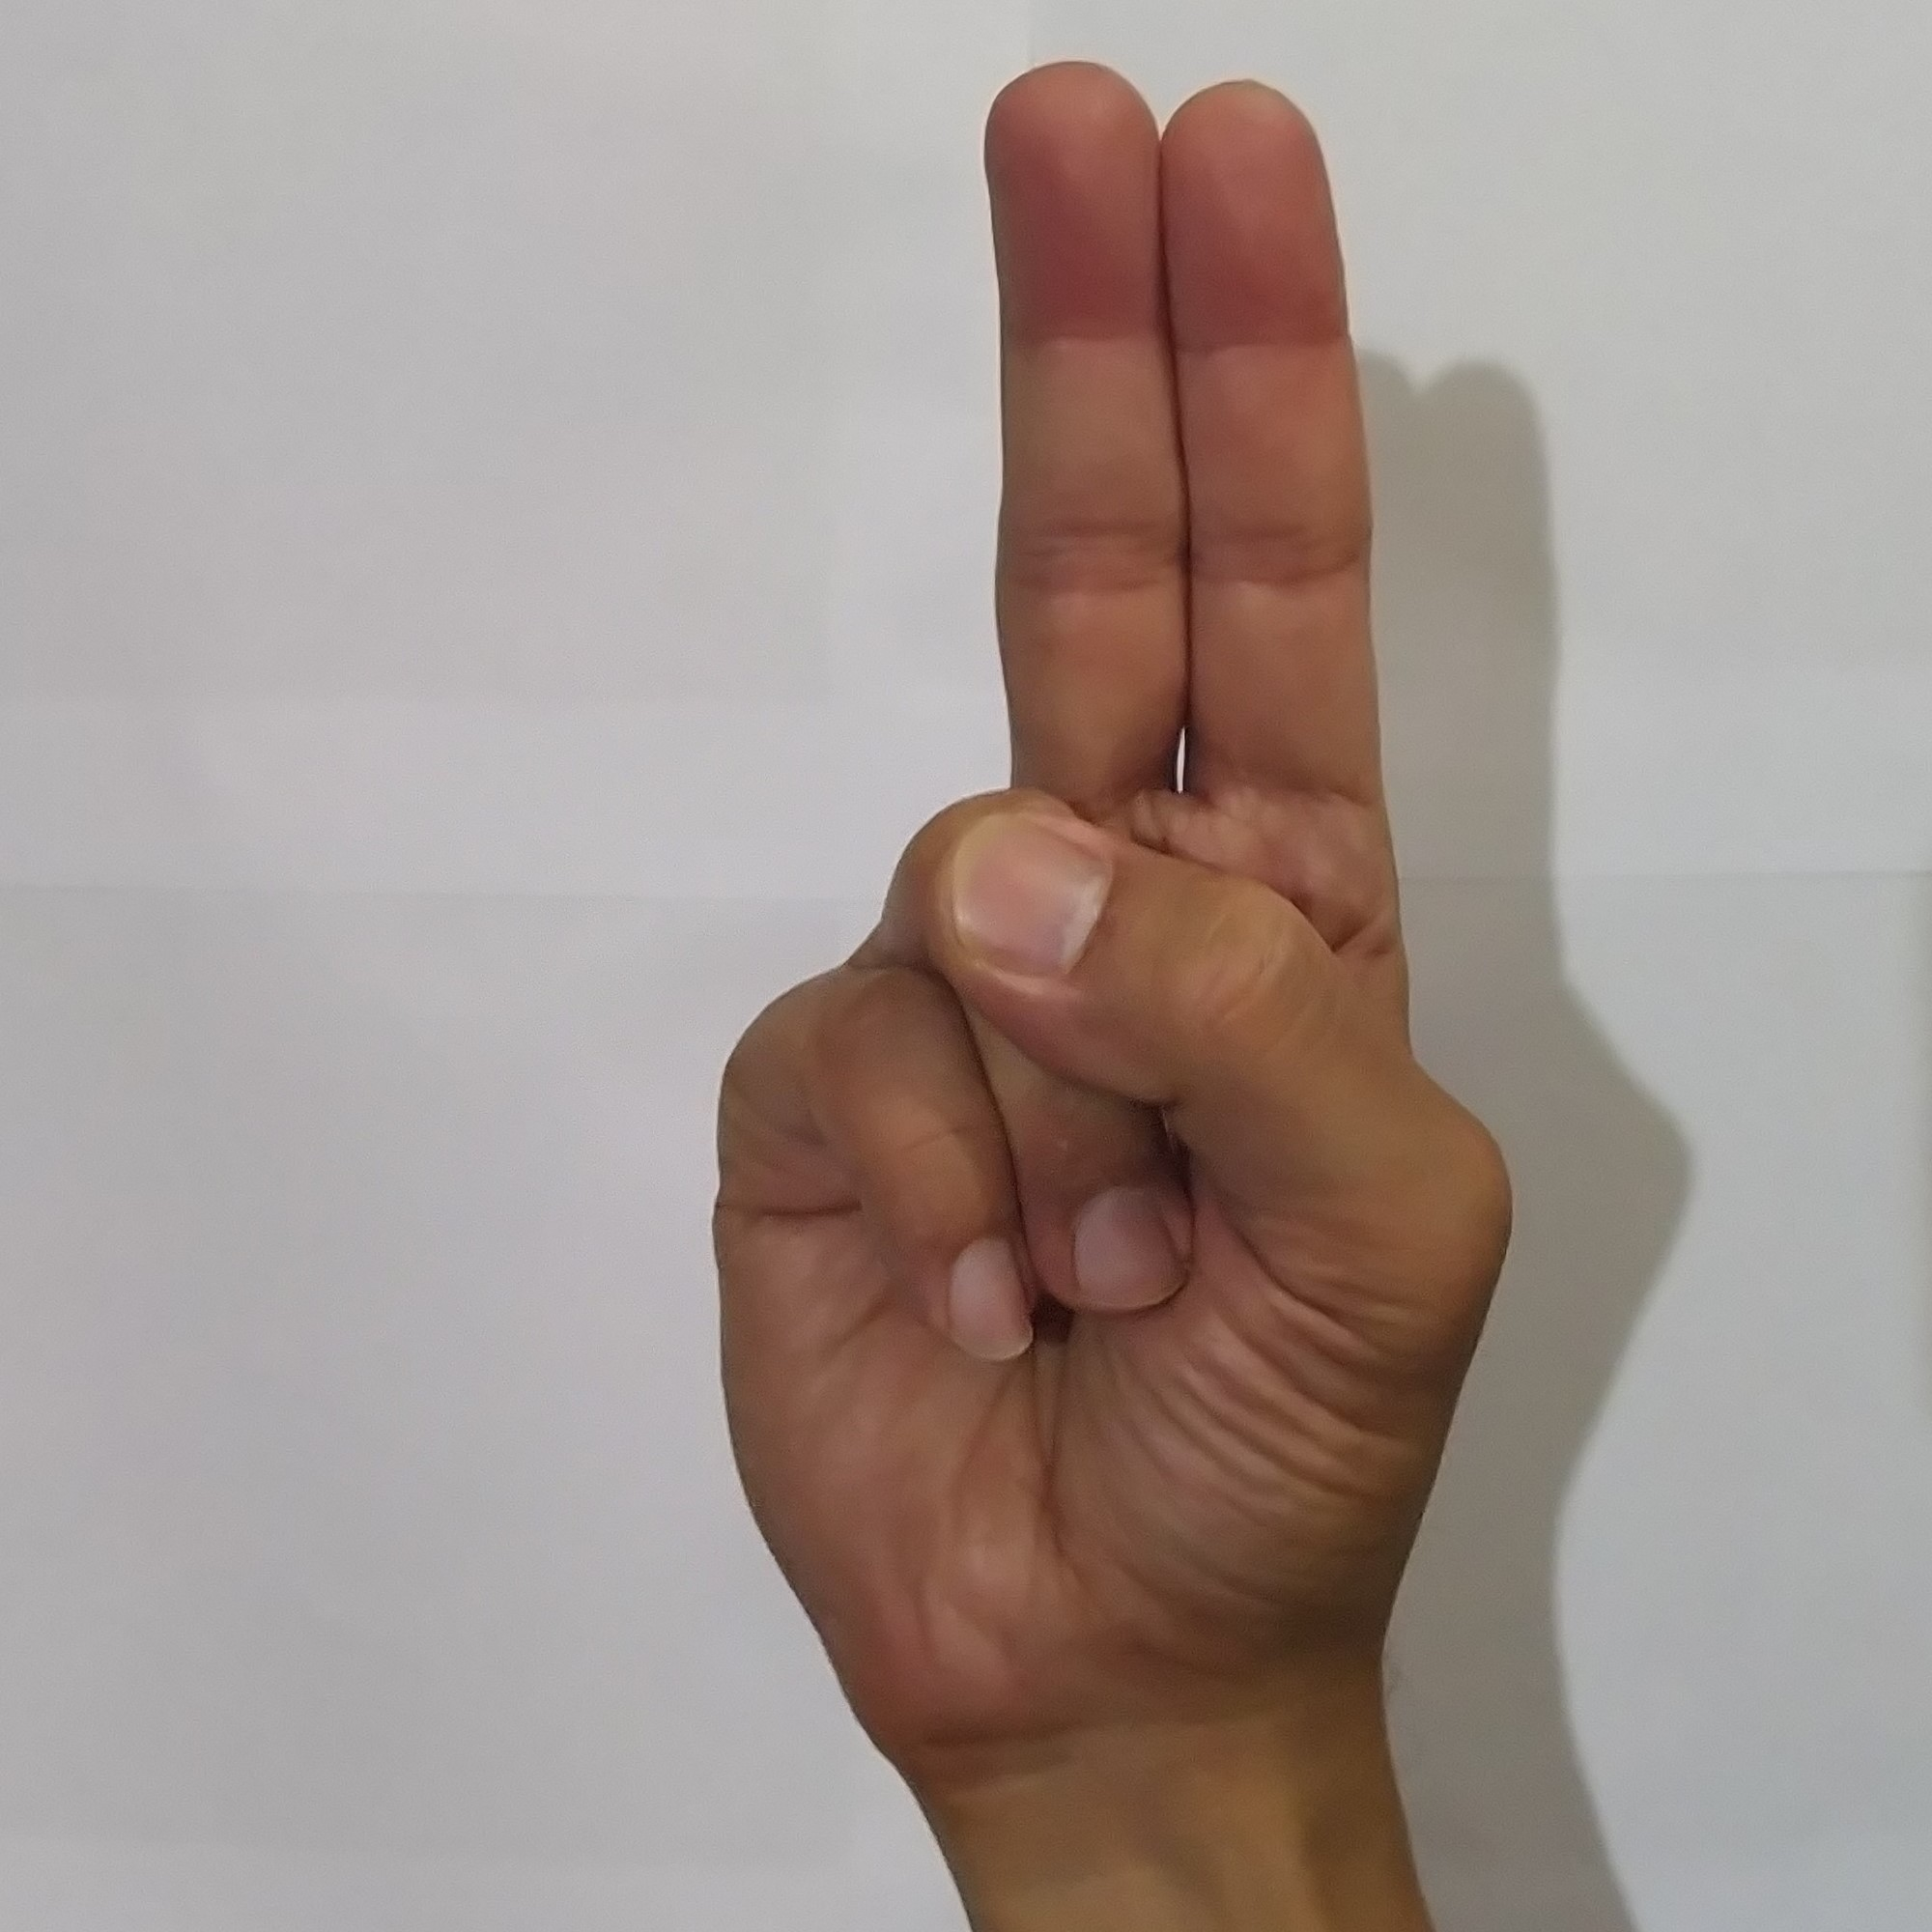U: (676, 35, 1546, 1721)
